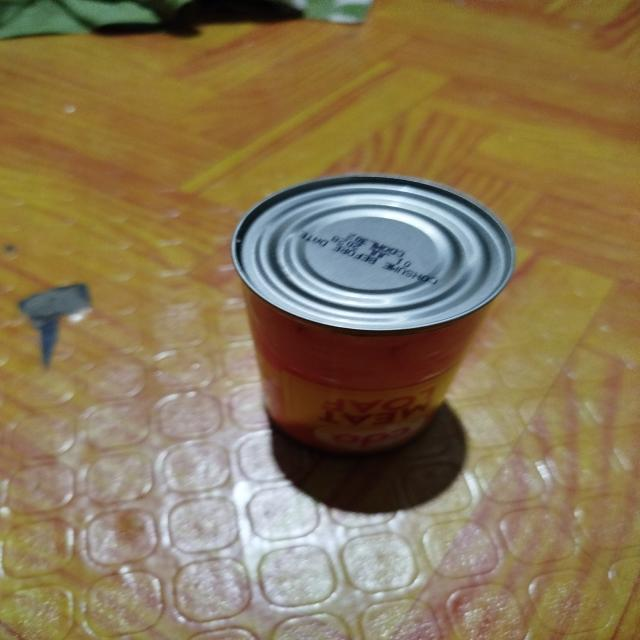metal: (226, 156, 525, 470)
